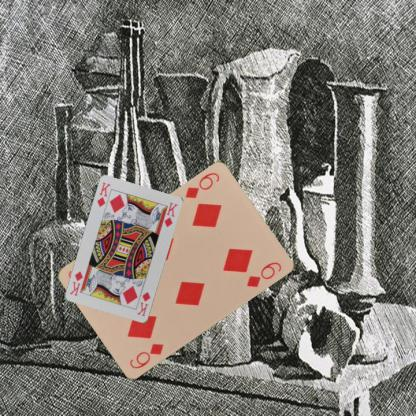6d: (126, 341, 164, 371), (182, 170, 220, 200)
Kd: (94, 180, 112, 209), (135, 289, 152, 318)
